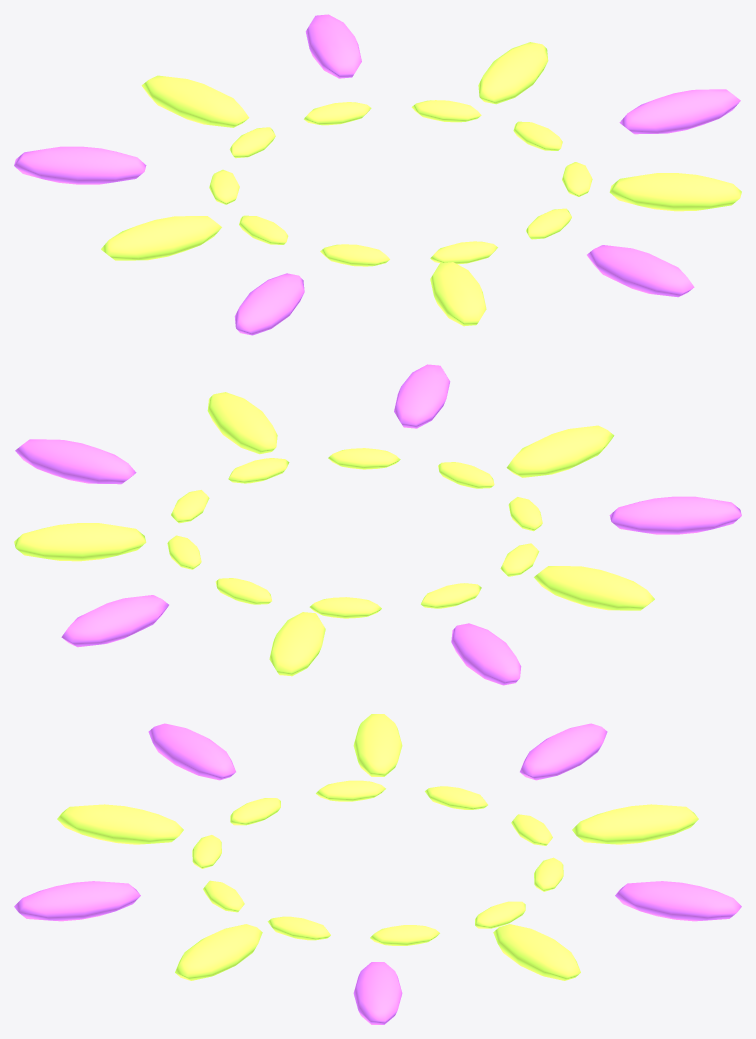
File: sporefire-petals.glb
3 views of the same model, one above another, from view 1: azimuth 30°, elevation 25°; view 2: azimuth 150°, elevation 25°; view 3: azimuth 270°, elevation 25° (orthographic). The views are drawn at different scales.
Parts seen in each view (by area): view 1: sporefire-petals; view 2: sporefire-petals; view 3: sporefire-petals.
Part boxes in pixels (x1=…): sporefire-petals: x1=14, y1=14, x2=741, y2=335; sporefire-petals: x1=14, y1=364, x2=741, y2=685; sporefire-petals: x1=14, y1=714, x2=741, y2=1024.
Bounding box in the file's own units: 1.9 × 0.092 × 1.94.
